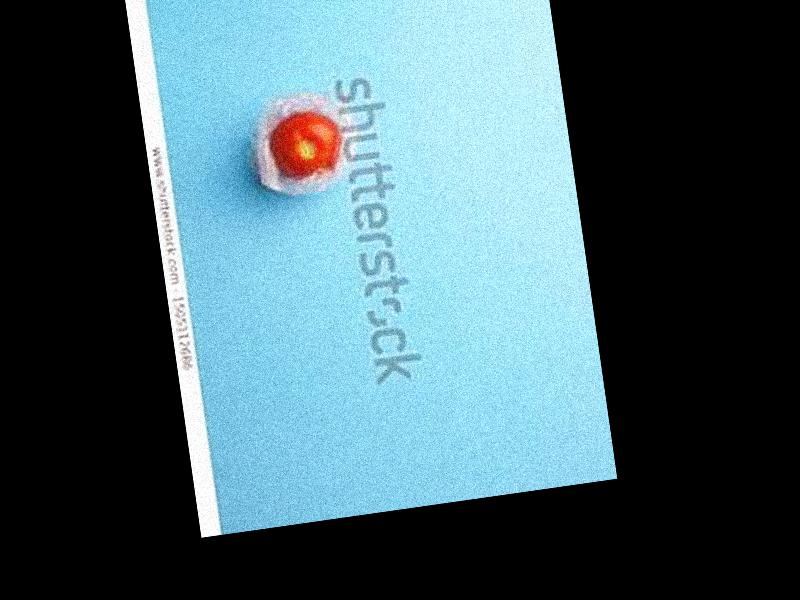Tomato: (268, 109, 345, 183)
